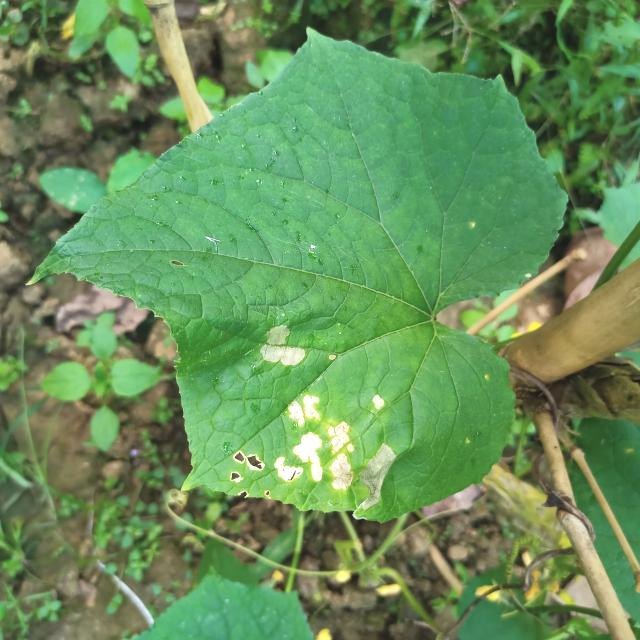disease_cucumber: (223, 384, 398, 519), (248, 319, 308, 366)
